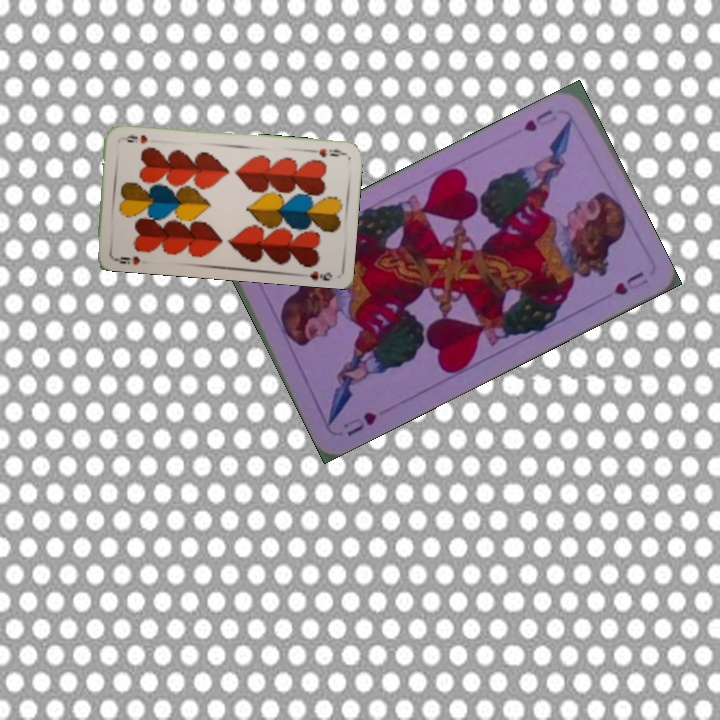H9: (306, 144, 347, 160), (109, 252, 142, 268)
HU: (339, 408, 380, 440), (519, 105, 560, 134)
